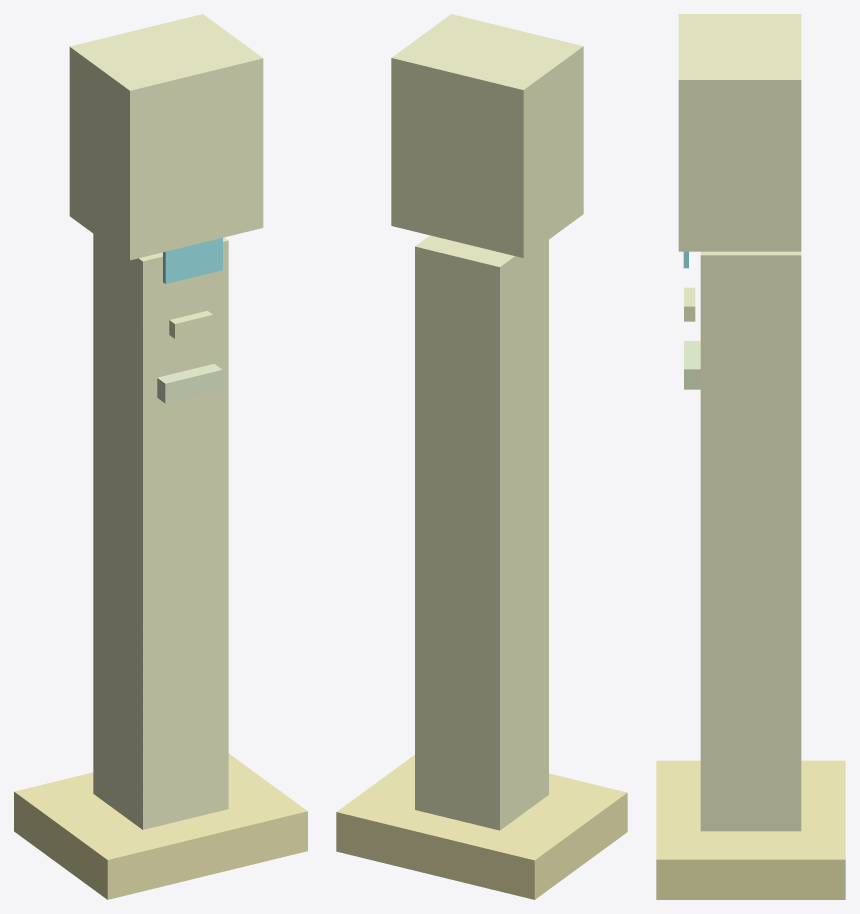
File: furniture_bus_stop_ticket_machine.glb
The picture shows the model from 3 angles, left to right: view 1: azimuth 30°, elevation 25°; view 2: azimuth 150°, elevation 25°; view 3: azimuth 270°, elevation 25°; orthographic projection. The views are drawn at different scales.
Visible parts, largest first — view 1: tower, head, base, tap_target, receipt_tray, ticket_slot; view 2: tower, head, base; view 3: tower, head, base, receipt_tray, ticket_slot.
Part boxes in pixels (x1,y1,x2,y2): tower: [93, 234, 228, 829]; head: [69, 14, 263, 260]; base: [14, 753, 307, 899]; tap_target: [163, 238, 222, 283]; receipt_tray: [157, 364, 222, 403]; ticket_slot: [169, 311, 212, 338]; tower: [415, 235, 548, 830]; head: [391, 14, 583, 257]; base: [336, 755, 627, 899]; tower: [700, 251, 801, 831]; head: [678, 14, 801, 251]; base: [656, 760, 845, 899]; receipt_tray: [684, 341, 700, 389]; ticket_slot: [684, 287, 695, 321].
Size of the model in its own units: 0.42 by 1.59 by 0.34.
